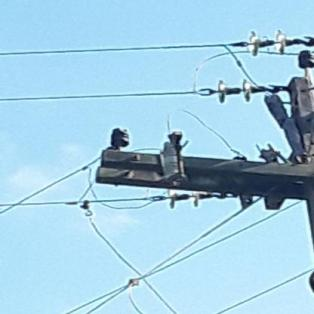Poste: (258, 59, 314, 314)
